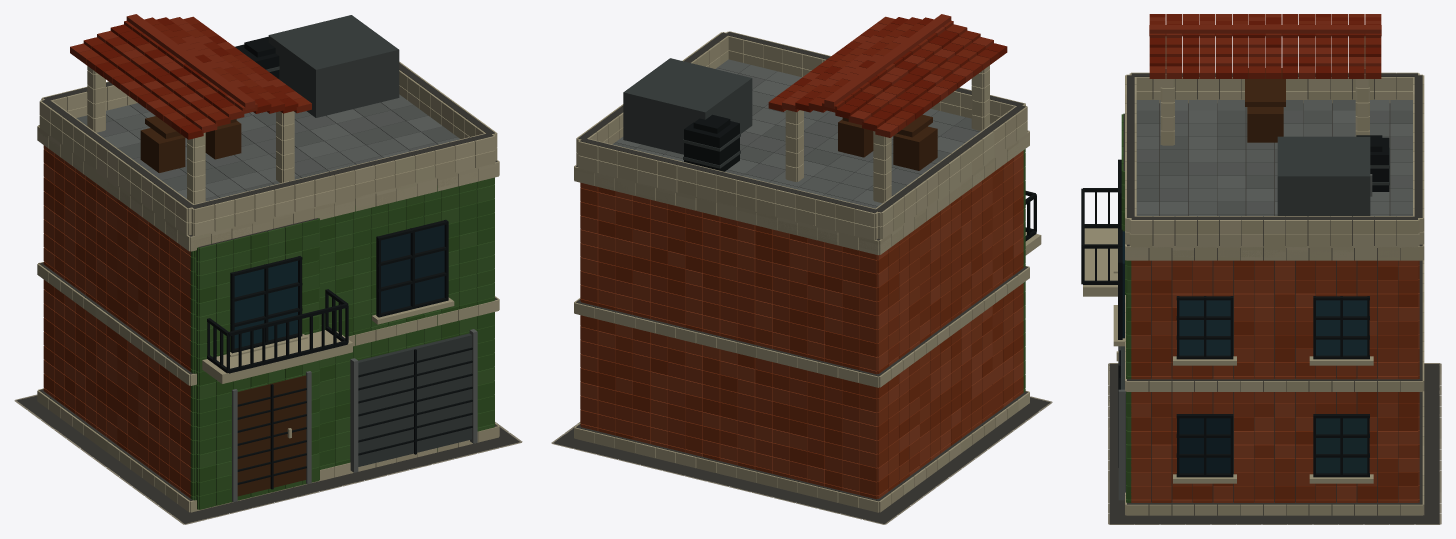
Rendered from SM_Mapa_044.fbx.
The picture shows the model from 3 angles, left to right: view 1: azimuth 30°, elevation 25°; view 2: azimuth 150°, elevation 25°; view 3: azimuth 270°, elevation 25°; orthographic projection. The views are drawn at different scales.
Visible parts, largest first — view 1: SM_Mapa_044; view 2: SM_Mapa_044; view 3: SM_Mapa_044.
Part boxes in pixels (x1,y1,x2,y2): SM_Mapa_044: [14, 14, 522, 524]; SM_Mapa_044: [551, 14, 1052, 524]; SM_Mapa_044: [1081, 14, 1441, 524].
Bounding box in the file's own units: 8 × 7.53 × 8.7.
